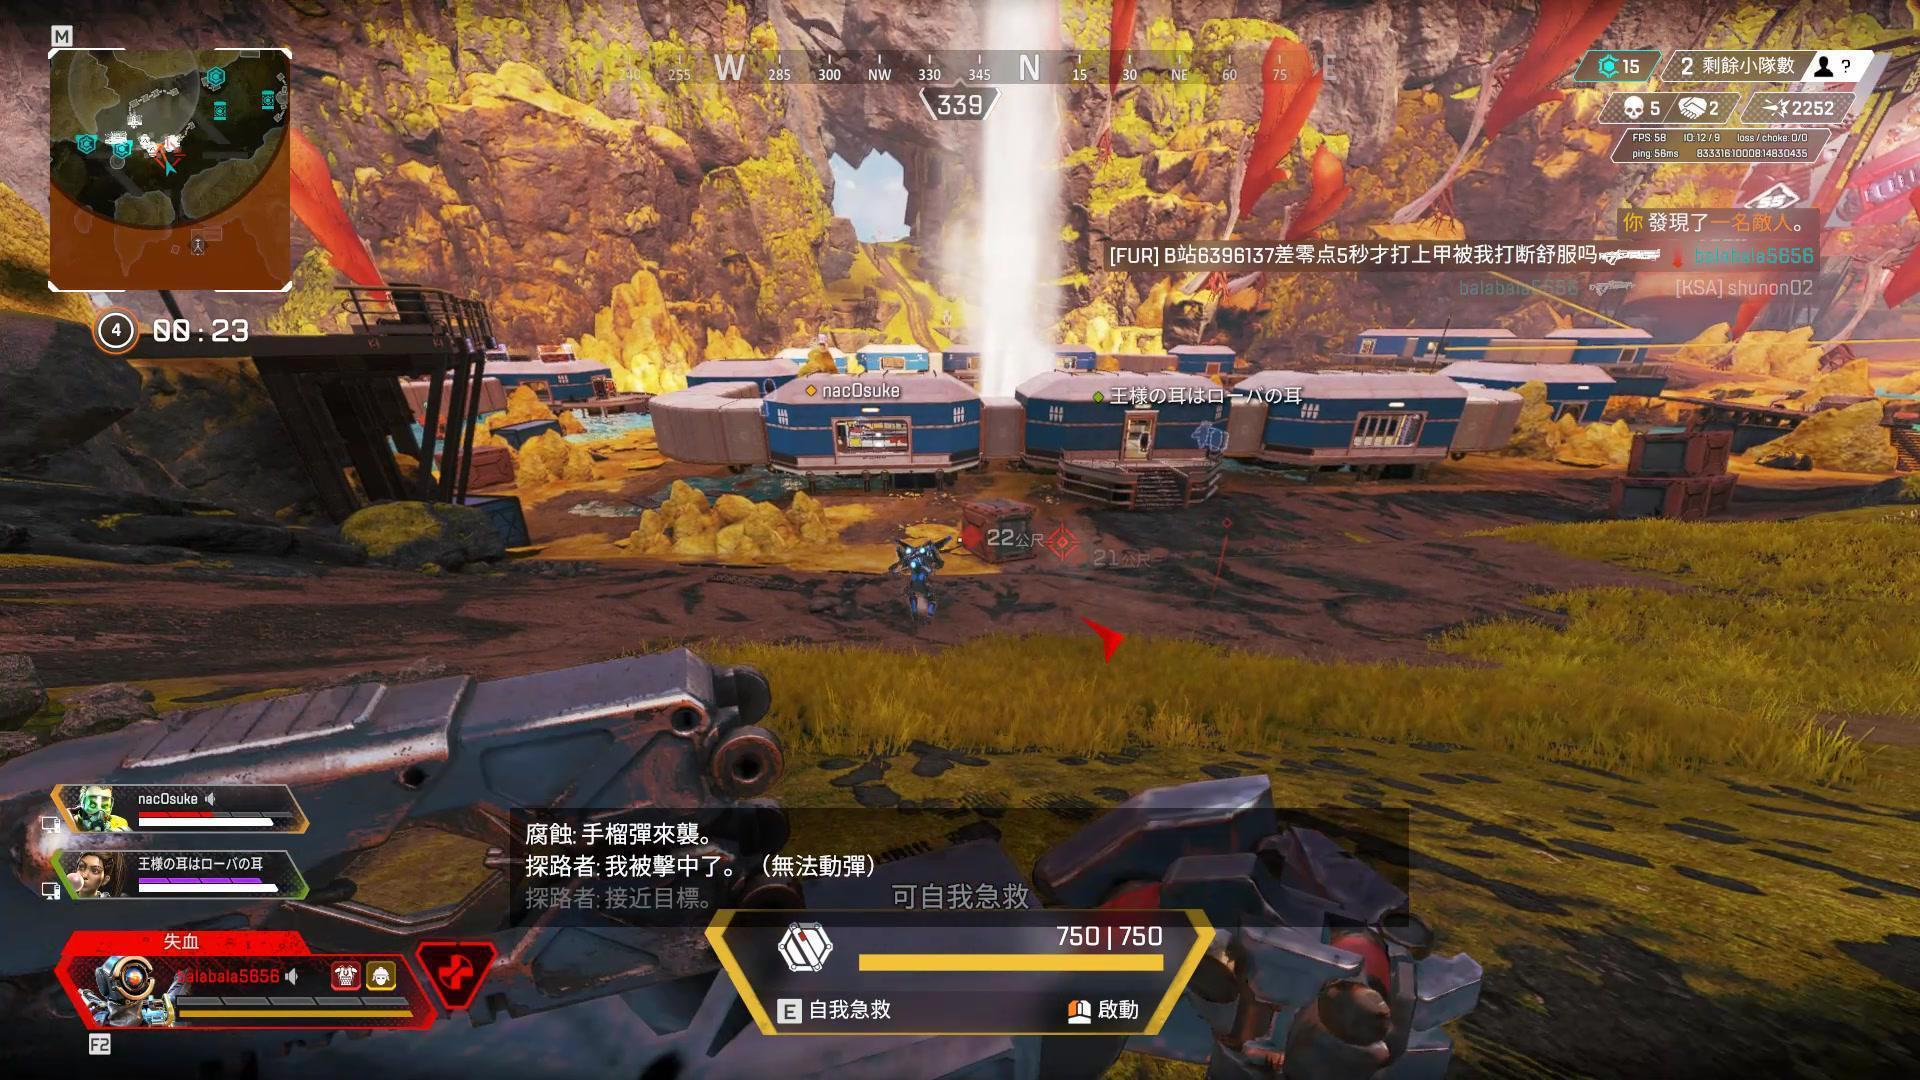avatar: (894, 538, 946, 626)
